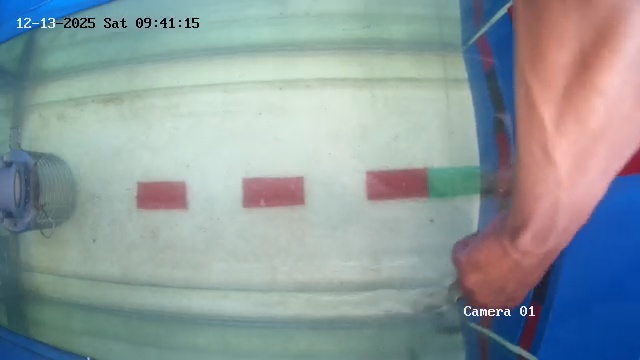fish: (424, 318, 468, 342)
